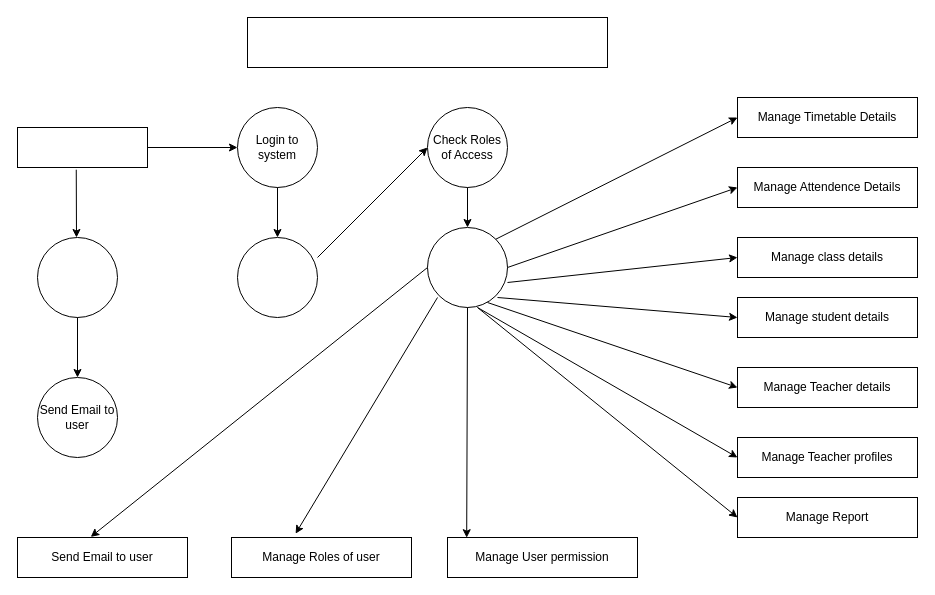
Some shapes in this 935 by 595 pixel diagram are drawn without their labels. The box of each missing label's shape, as (x1, y1, x2, y2) in pixels:
Admin: (16, 126, 148, 168)
Check credentials: (236, 236, 318, 318)
Forgot password: (36, 236, 118, 318)
Manage Modules: (426, 226, 508, 308)
Student Information System: (246, 16, 608, 68)
